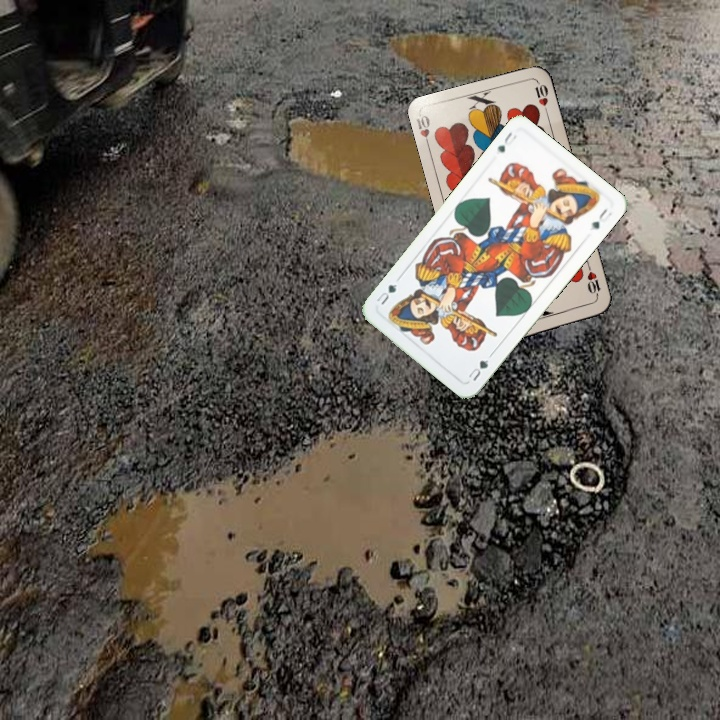GU: (464, 356, 491, 384), (492, 128, 519, 155)
H10: (413, 111, 433, 152), (583, 261, 603, 301)
